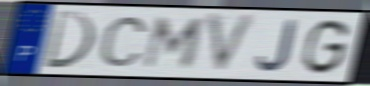C: (97, 14, 151, 69)
D: (41, 9, 98, 71)
G: (299, 18, 352, 77)
J: (255, 18, 299, 73)
M: (140, 15, 209, 71)
V: (204, 11, 261, 77)
